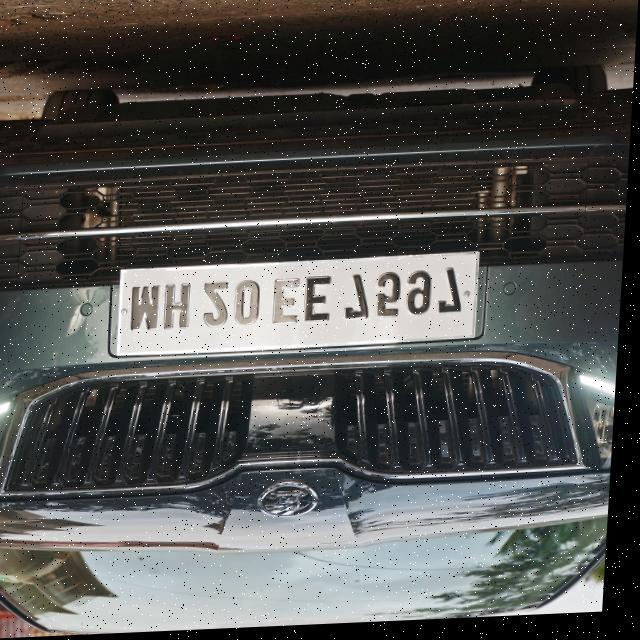plate: (115, 255, 483, 360)
